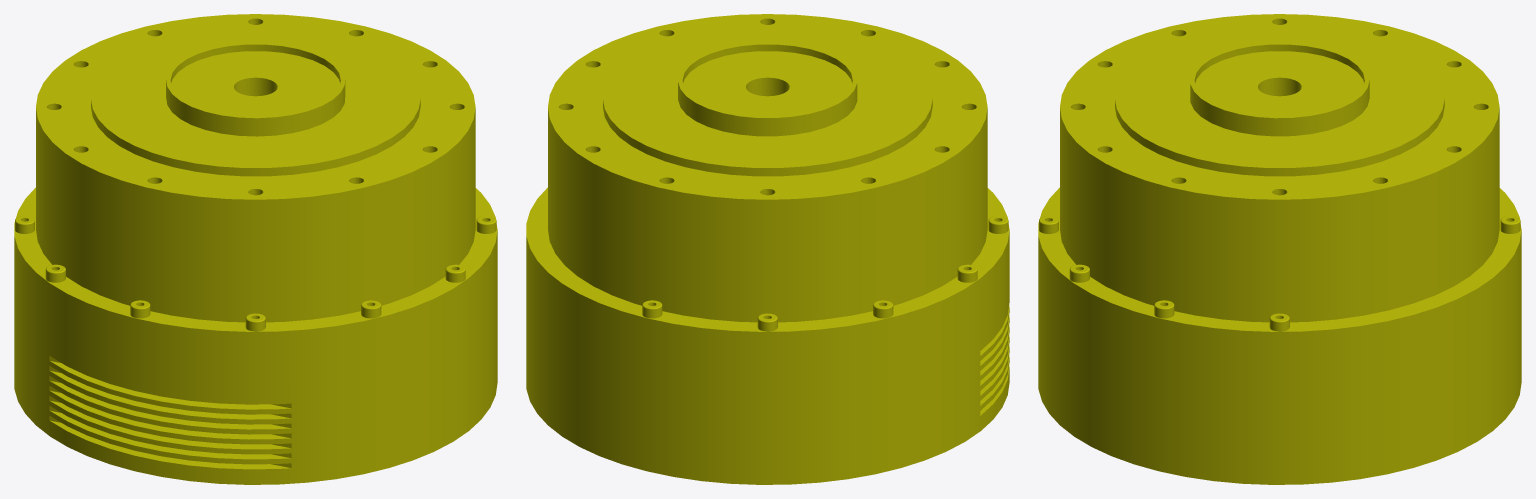
The picture shows the model from 3 angles, left to right: view 1: azimuth 30°, elevation 25°; view 2: azimuth 150°, elevation 25°; view 3: azimuth 270°, elevation 25°; orthographic projection.
Parts seen in each view (by area): view 1: Actor0; view 2: Actor0; view 3: Actor0.
Part boxes in pixels (box(x1,y1,x2,y2)): Actor0: box(14, 14, 497, 484); Actor0: box(526, 14, 1009, 484); Actor0: box(1038, 14, 1521, 484).
Size of the model in its own units: 0.1319 by 0.0911 by 0.1319.
